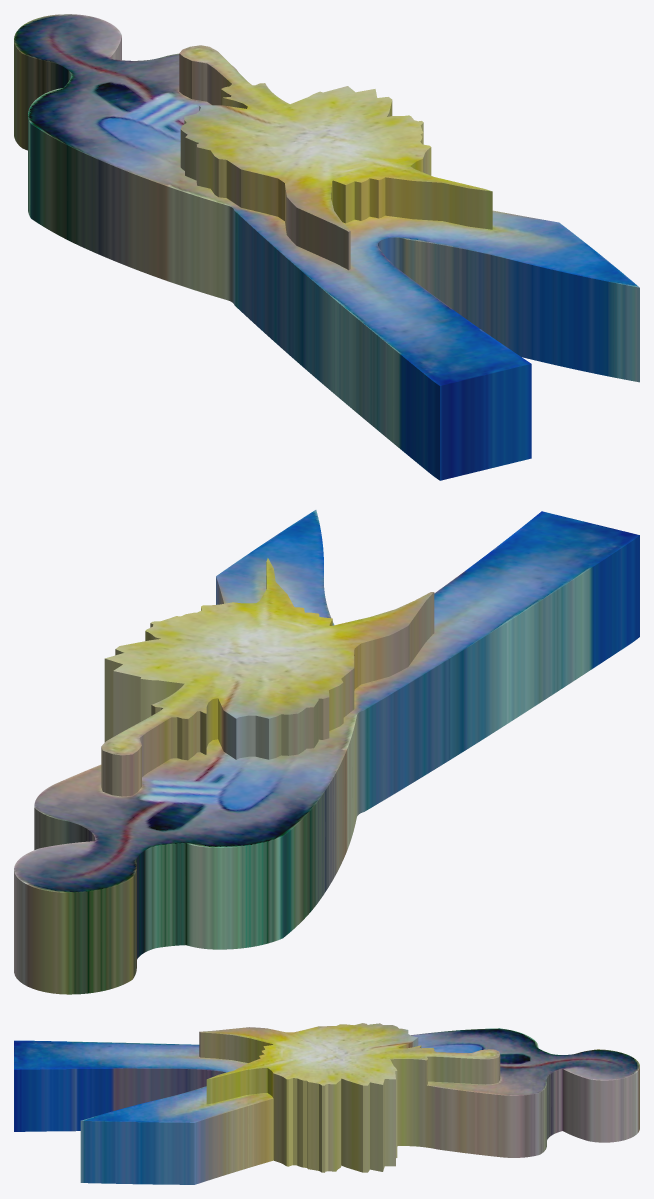
Rendered from Muro apocalipsis 1.dae.
The picture shows the model from 3 angles, top to bottom: view 1: azimuth 30°, elevation 25°; view 2: azimuth 150°, elevation 25°; view 3: azimuth 270°, elevation 25°; orthographic projection. The views are drawn at different scales.
Visible parts, largest first — view 1: SketchUp; view 2: SketchUp; view 3: SketchUp.
Boxes of the visible parts, box(x1,y1,x2,y2) form: SketchUp: box(14, 14, 639, 480); SketchUp: box(14, 510, 639, 994); SketchUp: box(14, 1023, 639, 1184).
Bounding box in the file's own units: 20.17 × 56.54 × 8.69.
2 materials, 1 textured.
